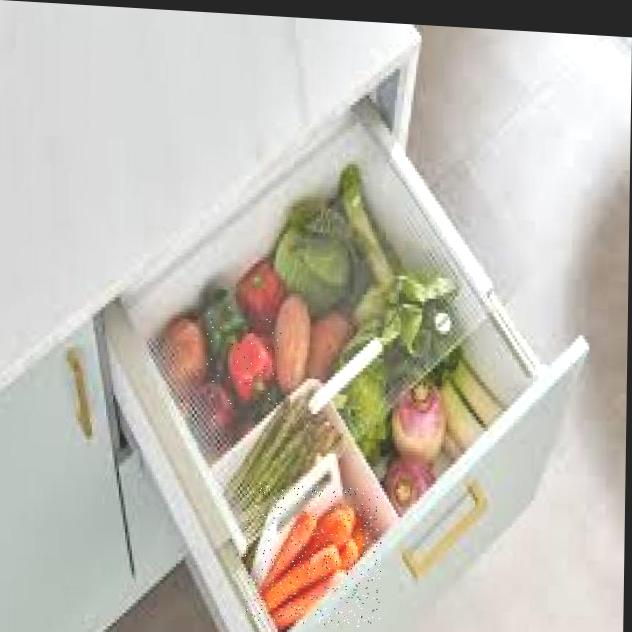carrots: (244, 482, 382, 629)
peppers: (200, 305, 281, 412)
